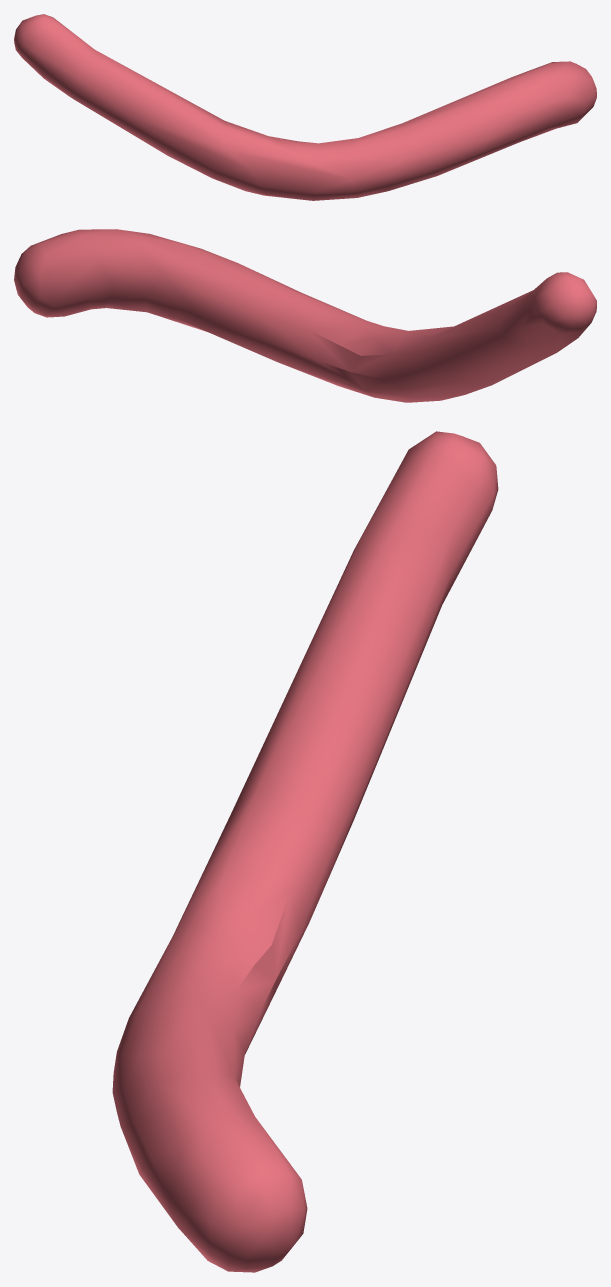
File: fma50366_fj5132.glb
The picture shows the model from 3 angles, top to bottom: view 1: azimuth 30°, elevation 25°; view 2: azimuth 150°, elevation 25°; view 3: azimuth 270°, elevation 25°; orthographic projection. The views are drawn at different scales.
Parts seen in each view (by area): view 1: FMA50366_FJ5132; view 2: FMA50366_FJ5132; view 3: FMA50366_FJ5132.
Part boxes in pixels (x1=…): FMA50366_FJ5132: x1=14, y1=14, x2=596, y2=200; FMA50366_FJ5132: x1=14, y1=229, x2=596, y2=402; FMA50366_FJ5132: x1=112, y1=431, x2=498, y2=1272.
Size of the model in its own units: 0.0268 by 0.00945 by 0.00853.
